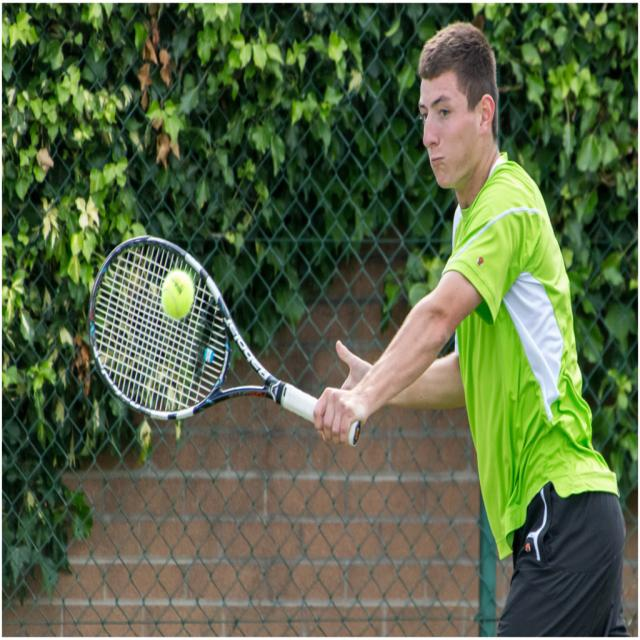Tennis ball: (160, 268, 192, 320)
